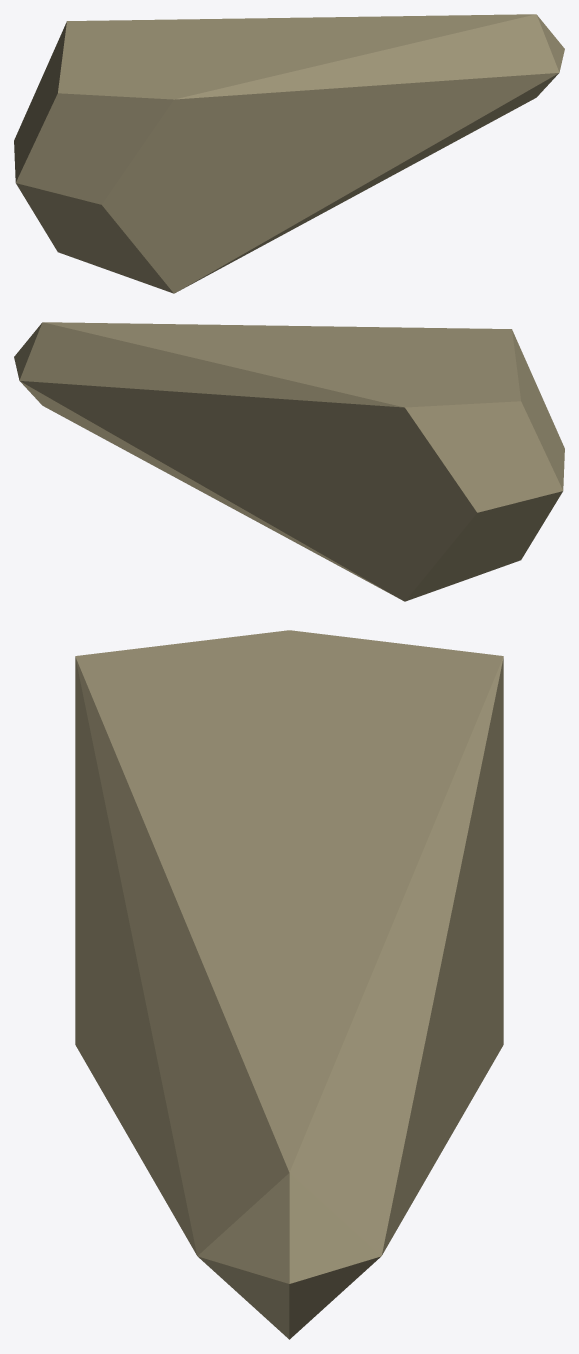
File: stone.obj
The picture shows the model from 3 angles, top to bottom: view 1: azimuth 30°, elevation 25°; view 2: azimuth 150°, elevation 25°; view 3: azimuth 270°, elevation 25°; orthographic projection. The views are drawn at different scales.
Visible parts, largest first — view 1: Circle; view 2: Circle; view 3: Circle.
Boxes of the visible parts, x1,y1,x2,y2 form: Circle: (14,14,564,293); Circle: (14,322,564,601); Circle: (75,630,503,1339).
Size of the model in its own units: 1.87 by 0.6328 by 0.6328.
Materials: 1 (1 with a texture image).
